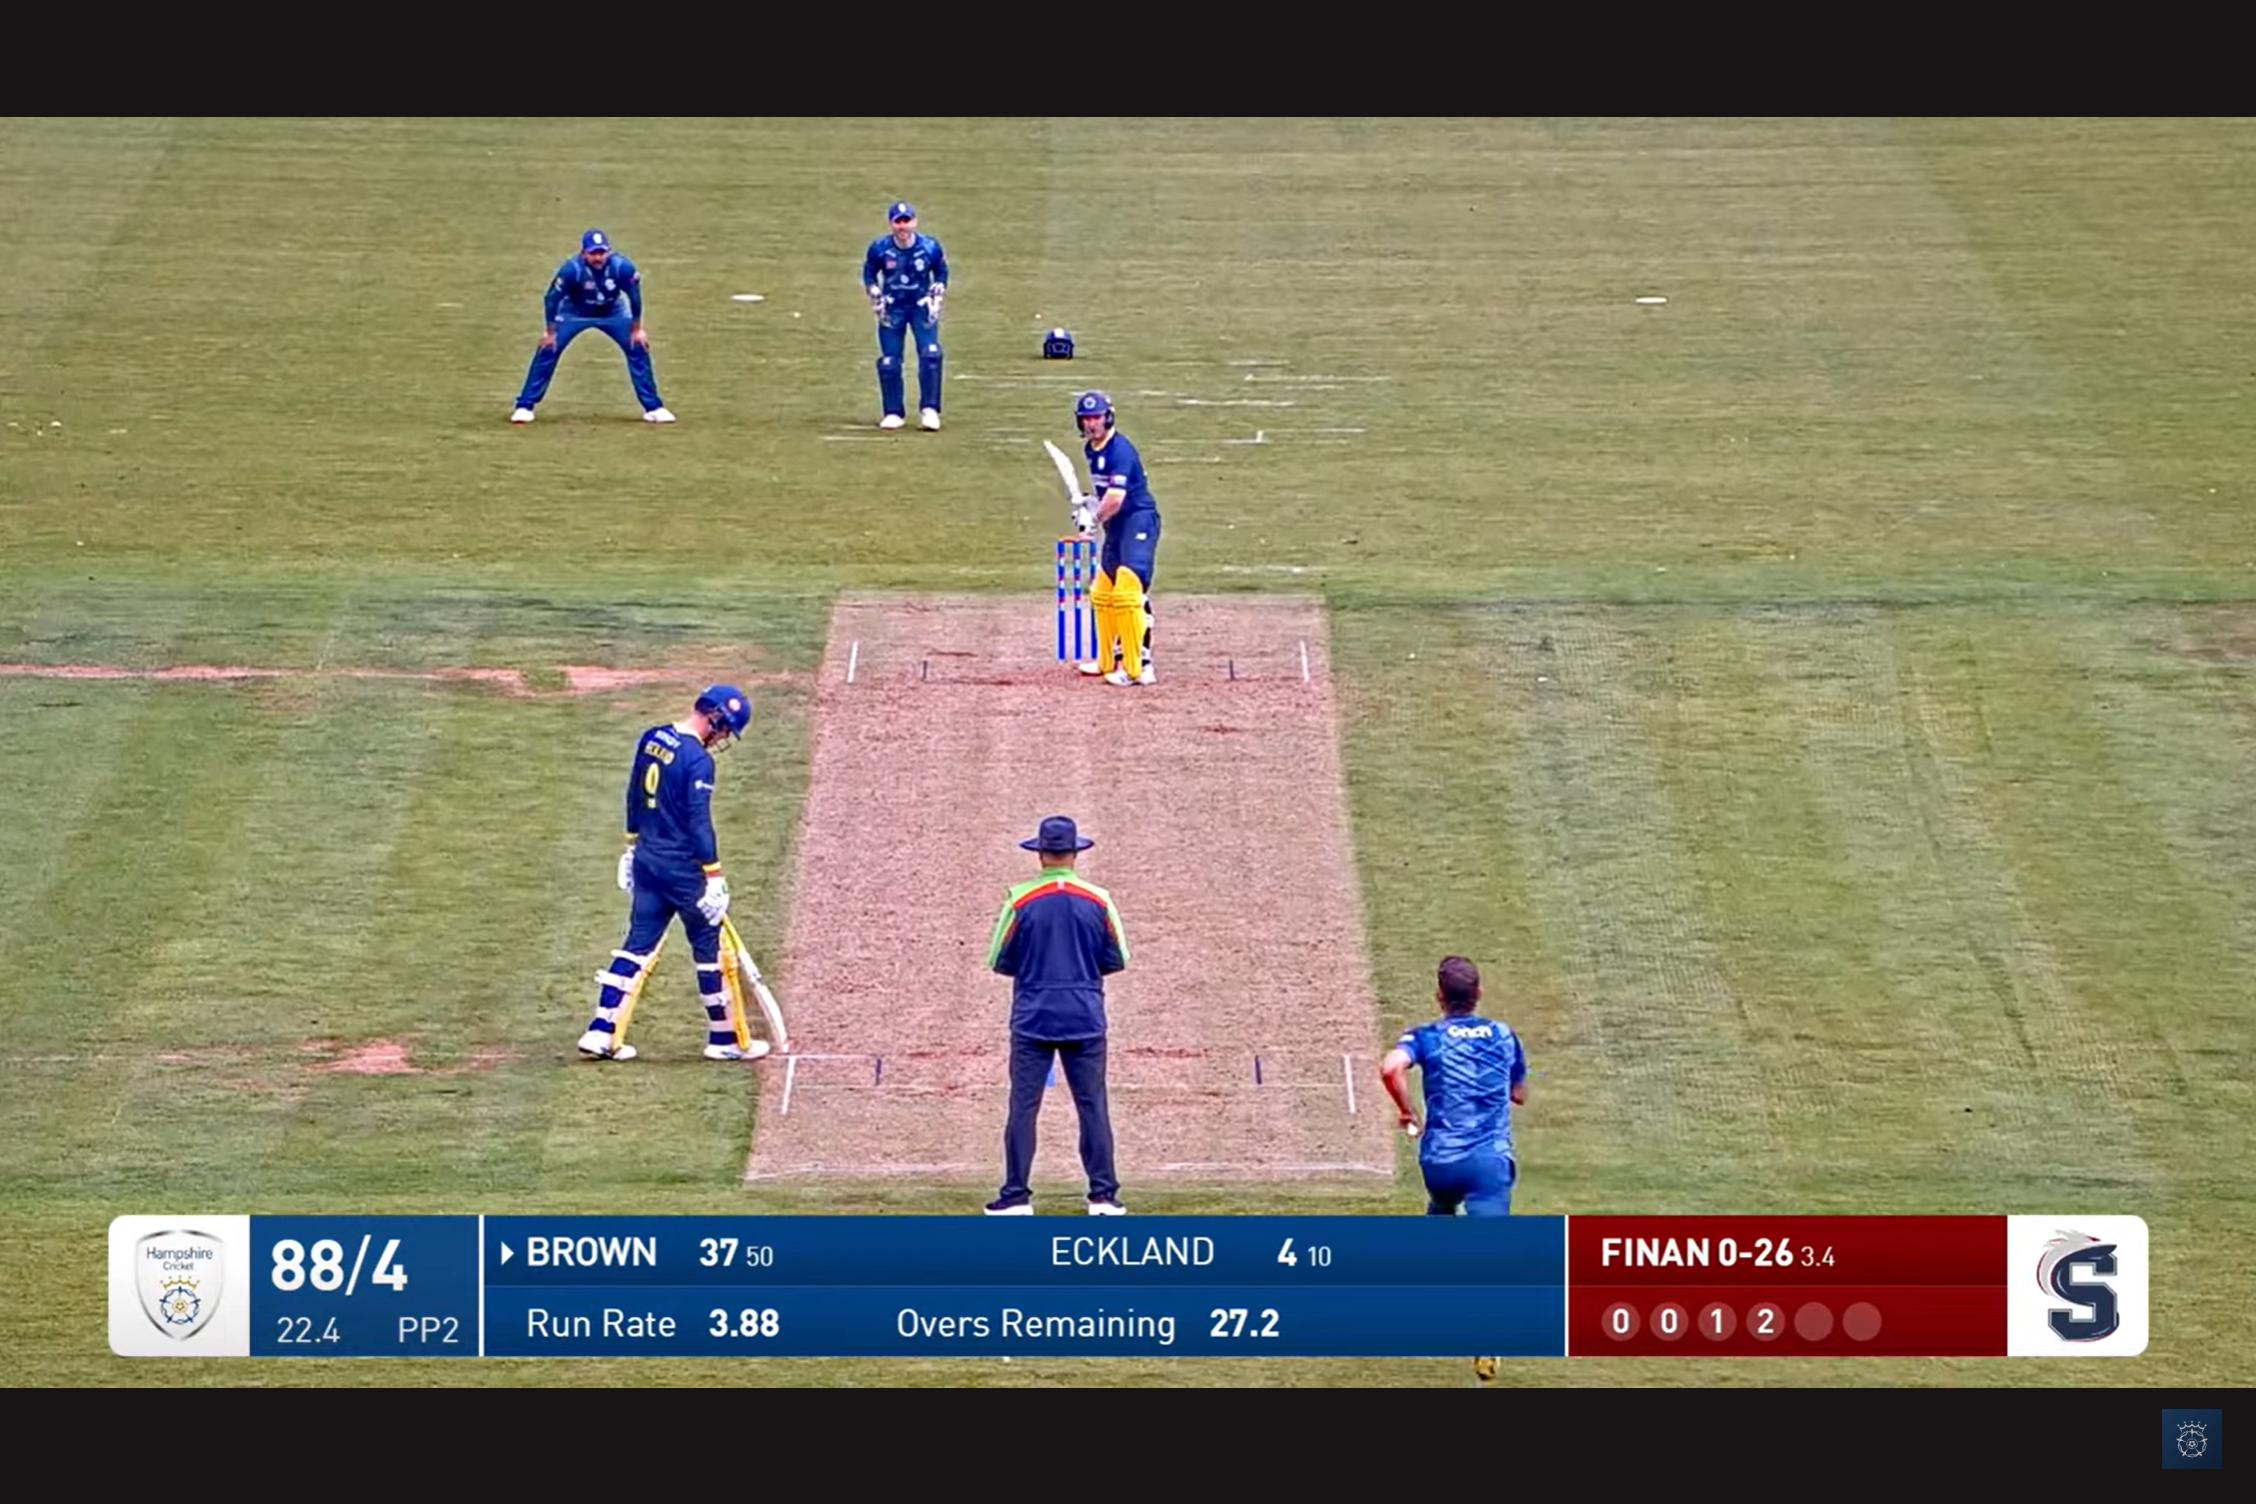batsman: (1024, 378, 1197, 688)
bowler running in: (1353, 937, 1574, 1219)
non striker: (572, 673, 811, 1096)
umpire: (957, 774, 1151, 1219)
wicket keeper: (824, 193, 974, 438)
